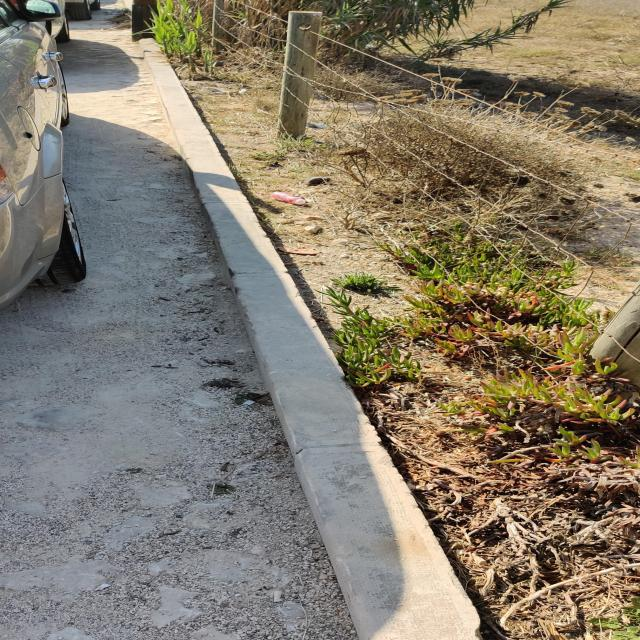litter: (271, 192, 305, 204)
